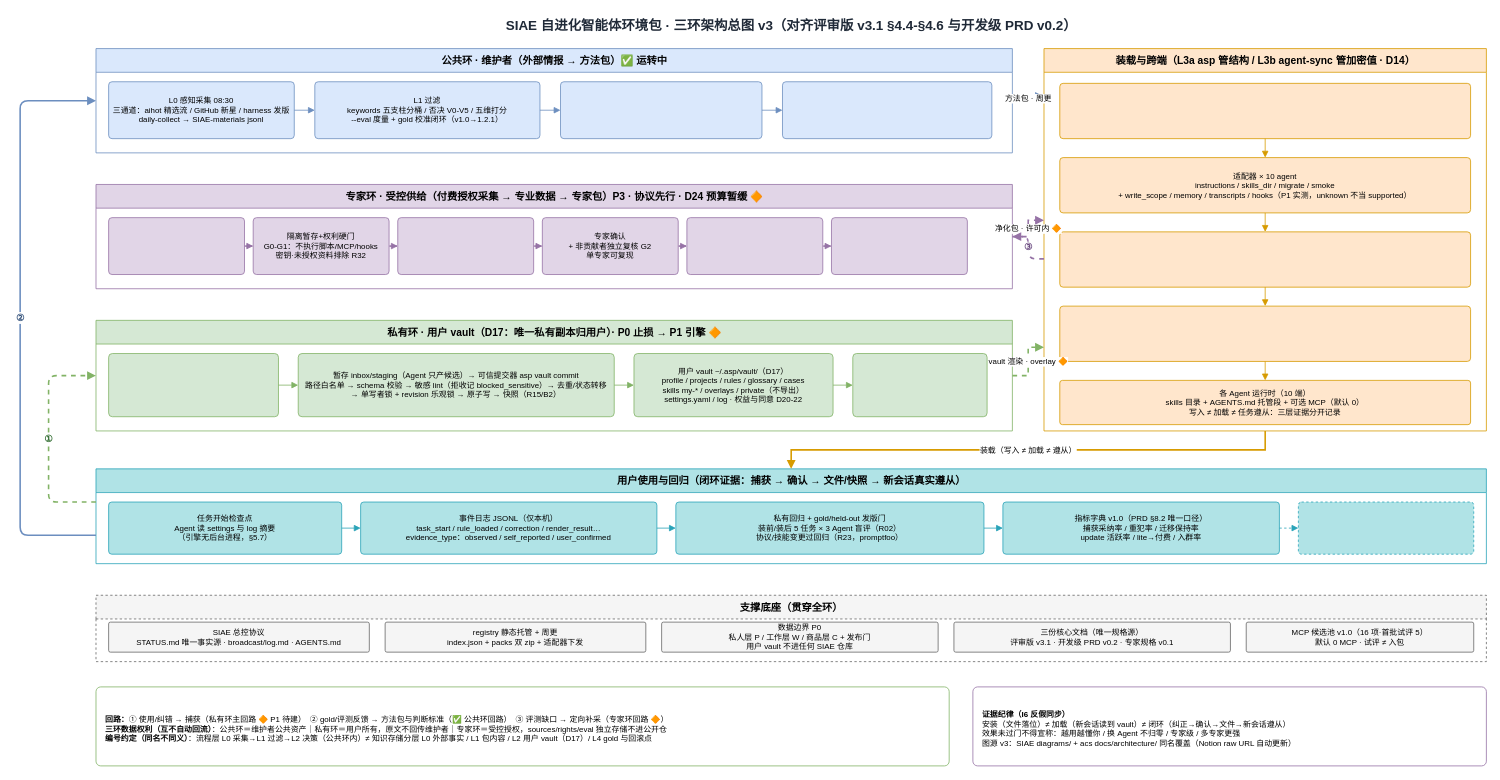
This 1500x780 diagram has some shape labels left out. The shapes that lost their labels are listed below. From the top down, each one's centre as x and y in pixels, then its label:
At pixel 661 110: "L2 周会决策 Codex 模板周报（A/B/C 动作分级） Notion 09 三态：试评 / 观察 / 不考虑".
At pixel 887 110: "方法包周更 → registry base 25 + ai-pm 12 技能 · AGENTS.md 托管段 默认零 MCP · 离线快照优先".
At pixel 1265 111: "asp 安装器（双击即用） 探测 → 已购清单勾选 → 备份 → 写入 R00-R03 修复中：嵌套目录 / 覆盖备份 / export 去凭证（D18）".
At pixel 176 246: "合作授权+白名单预览 邀约验真 → 签约（D25） 逐项勾选脱敏提交 R30/R31".
At pixel 465 246: "专业卡 expert-0.1 + 来源账本 source→license →card→package R33/R34".
At pixel 754 246: "条件融合 + 三臂评测 G3-G4 共识/分支/冲突保留 · 消融 held-out 防污染 R35".
At pixel 899 246: "净化包发布/撤回 → registry（仅许可内） 附来源与评测报告 R36".
At pixel 1265 259: "覆盖顺序（安全/合规/授权边界不可覆盖） 用户 vault/overlay ＞ 团队层（预留） ＞ 用户选择的专家包 ＞ 维护者通用包".
At pixel 1265 333: "Agent-sync L3b age 加密值通道 / 无 git 迁移（P2，R22） FORMATS.md 8 端格式差异".
At pixel 193 385: "捕获多通道 明确口令（兜底）/ 会中自记 / 会后复盘 冷启动访谈 3 问 + 资料导入（P1）".
At pixel 919 385: "渲染 render 确定性路由 + 托管块 常驻 ≤1,500 字 + overlay 重放".
At pixel 1386 527: "P2 迁移 age 加密单文件 → 新机还原 同题保持率 ≥90%（R22）".
